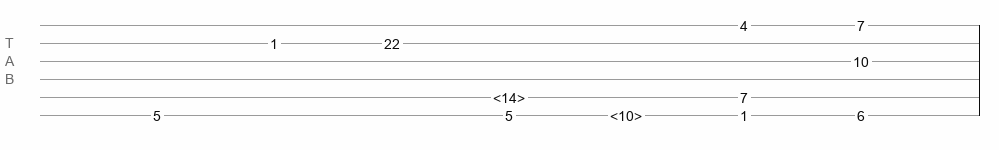1: (270, 36, 278, 46), (740, 108, 748, 118)
10: (853, 54, 869, 64)
22: (384, 36, 400, 46)
4: (740, 18, 748, 28)
5: (153, 108, 161, 118), (505, 108, 513, 118)
6: (857, 108, 865, 118)
7: (740, 90, 748, 100), (857, 18, 865, 28)
harmonic: (493, 90, 525, 100), (610, 108, 642, 118)
